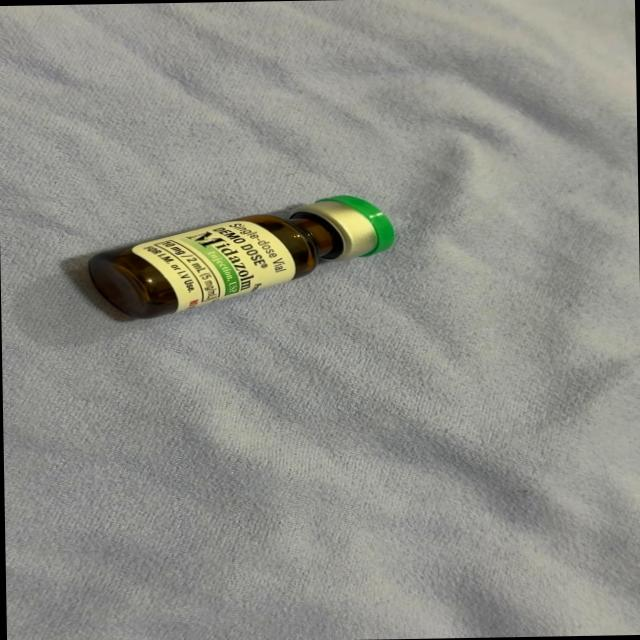midazolm: (90, 196, 390, 318)
